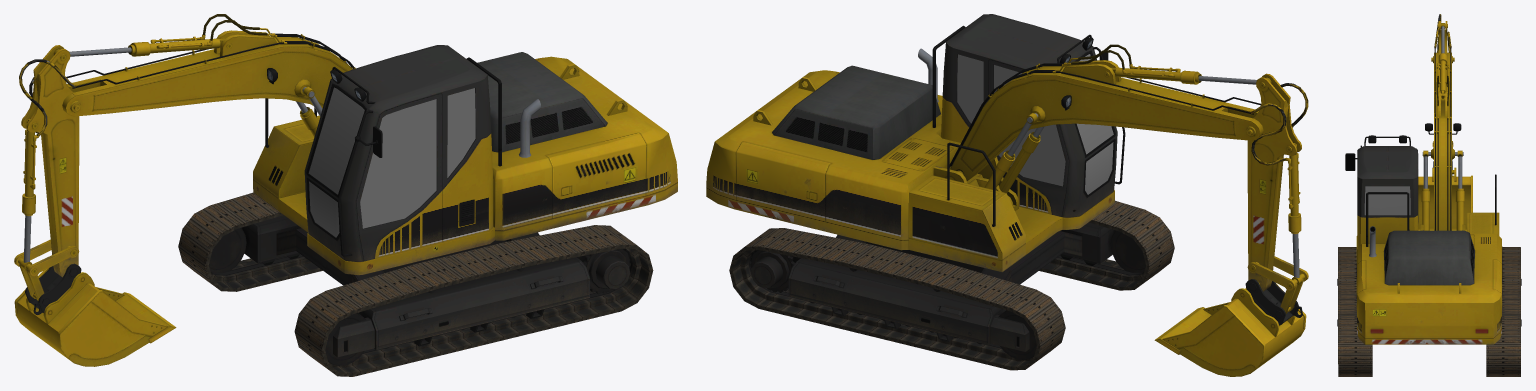
Rendered from excavators_K_modified.fbx.
3 renders of one model, left to right at view 1: azimuth 30°, elevation 25°; view 2: azimuth 150°, elevation 25°; view 3: azimuth 270°, elevation 25°, orthographic. The views are drawn at different scales.
Visible parts, largest first — view 1: body, base, left_track, boom_1, bucket, boom_2, right_track, piston2, piston1, bucket_attachment_1; view 2: body, base, boom_1, right_track, bucket, boom_2, left_track, piston3, piston2, piston1, bucket_attachment_1; view 3: body, boom_1, right_track, left_track, bucket, piston3, boom_2, piston_3_end, piston2.
Part boxes in pixels (box(x1,y1,x2,y2)): body: box(253, 45, 677, 275); base: box(209, 215, 630, 365); left_track: box(294, 225, 653, 376); boom_1: box(62, 14, 355, 116); bucket: box(14, 263, 176, 366); boom_2: box(19, 45, 79, 299); right_track: box(178, 192, 322, 291); piston2: box(128, 34, 223, 56); piston1: box(22, 119, 38, 216); bucket_attachment_1: box(14, 239, 79, 276); body: box(706, 14, 1125, 272); base: box(750, 222, 1145, 359); boom_1: box(949, 44, 1263, 180); right_track: box(729, 228, 1065, 370); bucket: box(1154, 279, 1306, 376); boom_2: box(1247, 73, 1308, 312); left_track: box(1039, 200, 1174, 290); piston3: box(984, 132, 1040, 193); piston2: box(1112, 64, 1201, 84); piston1: box(1285, 143, 1301, 234); bucket_attachment_1: box(1247, 256, 1308, 290); body: box(1345, 135, 1502, 344); boom_1: box(1422, 47, 1463, 230); right_track: box(1486, 247, 1520, 376); left_track: box(1338, 247, 1372, 376); bucket: box(1418, 160, 1472, 231); piston3: box(1421, 188, 1464, 230); boom_2: box(1434, 14, 1451, 55); piston_3_end: box(1423, 150, 1462, 188); piston2: box(1436, 53, 1449, 98).
Size of the model in its own units: 1066 by 544 by 444.
